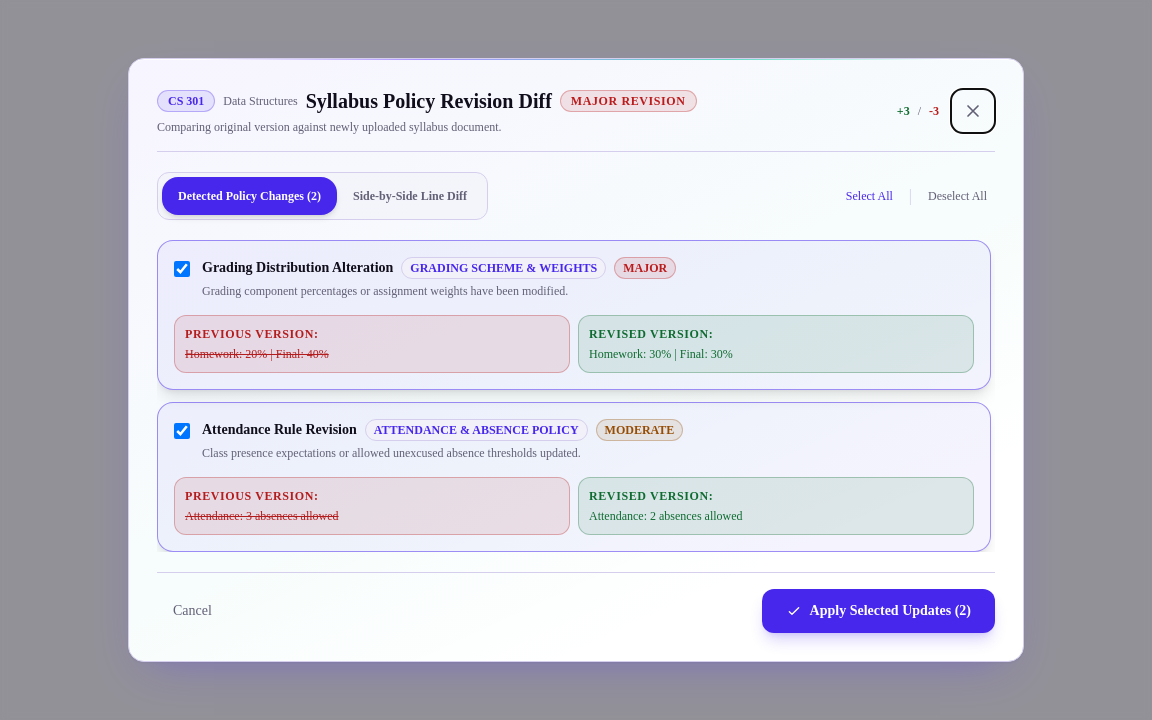
SyllabusDiffModal (Item 46) › switches to Side-by-Side Line Diff tab and renders diff lines
What coordinates should you click on to do the following:
click the button with test id "tab-diff"
I would click on:
 (410, 196)
Its box is [337,177,483,215].
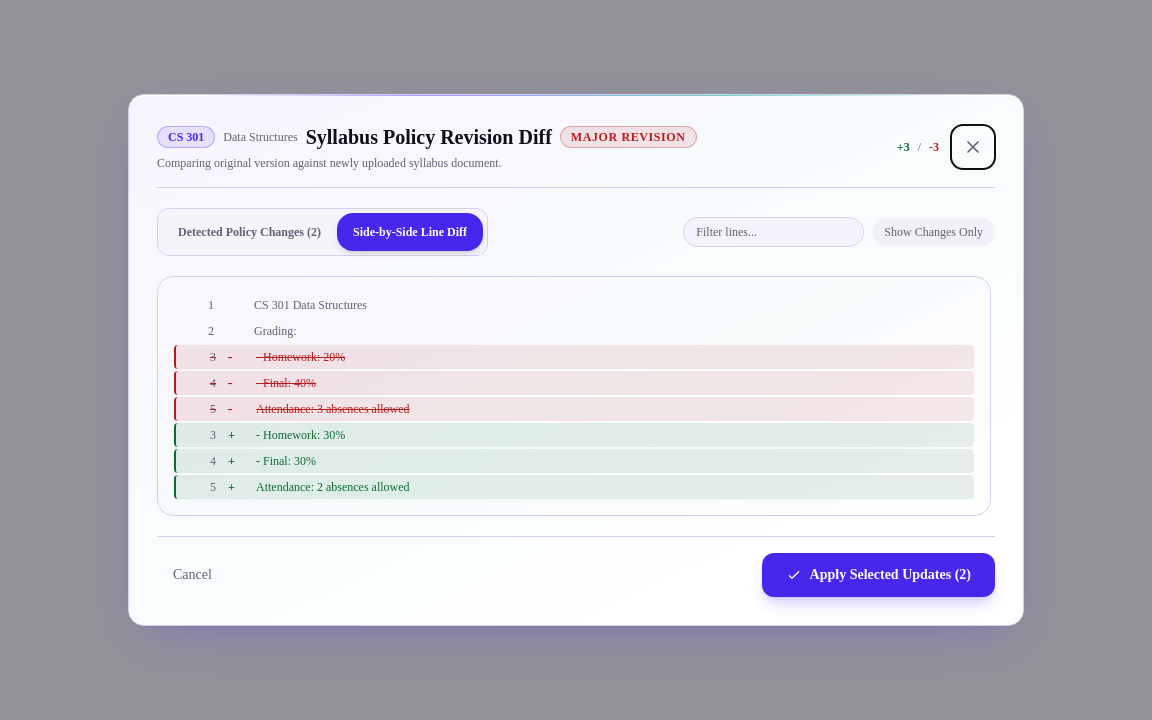
Expected: the element with test id "diff-lines-container" is shown, [157,276,991,516]
Expected: the field with placeholder "Filter lines..." is shown, [683,217,864,247]
